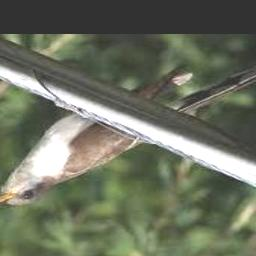Cuckoo: (0, 58, 256, 205)
